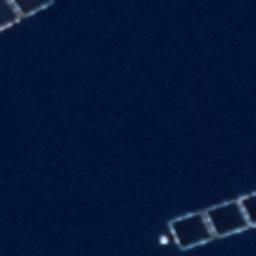square_solid: (164, 206, 216, 251), (201, 195, 253, 240), (3, 1, 59, 22), (1, 1, 25, 38), (236, 187, 256, 229)
